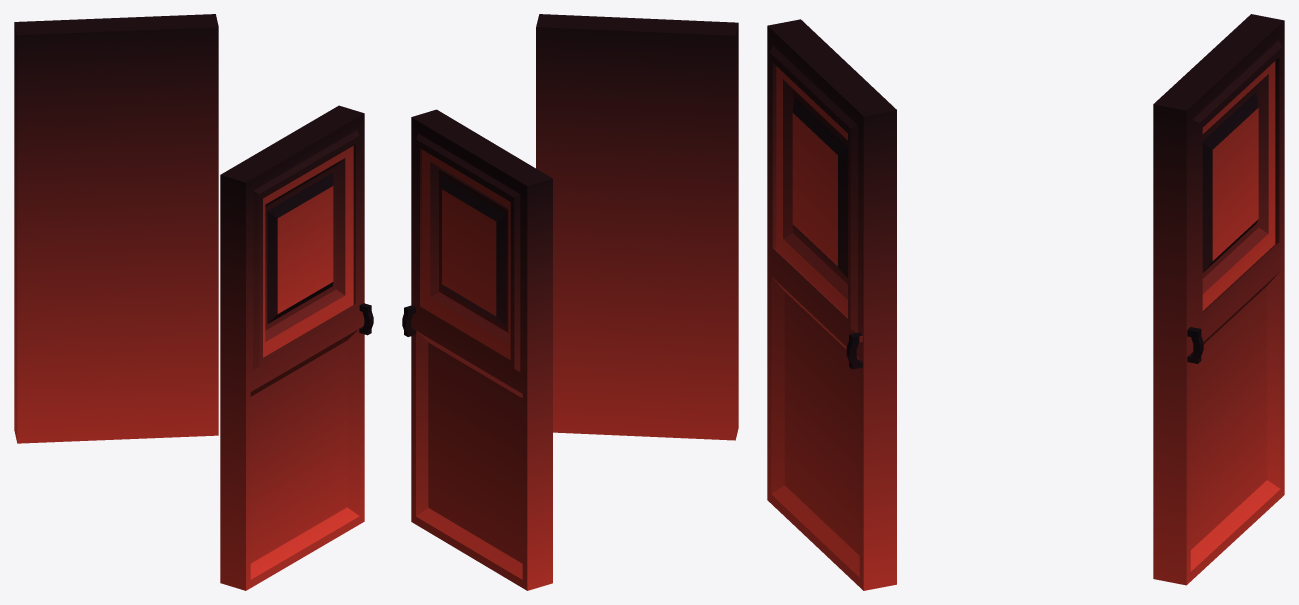
File: Raven_Temple_Door.fbx
3 views of the same model, side by side, from view 1: azimuth 30°, elevation 25°; view 2: azimuth 150°, elevation 25°; view 3: azimuth 270°, elevation 25° (orthographic). The views are drawn at different scales.
Visible parts, largest first — view 1: Cube.039; view 2: Cube.039; view 3: Cube.039.
Part boxes in pixels (box(x1,y1,x2,y2)): Cube.039: box(14, 14, 373, 590); Cube.039: box(402, 14, 738, 590); Cube.039: box(767, 14, 1284, 590).
Bounding box in the file's own units: 111 × 235 × 232.
1 material, 1 textured.
